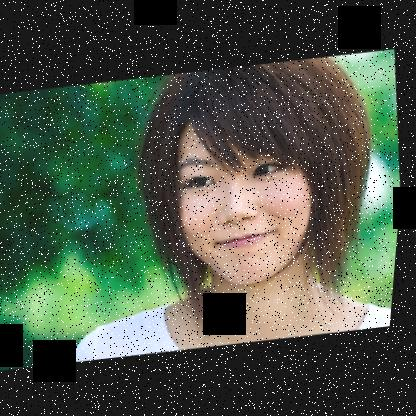Female: (166, 102, 329, 290)
